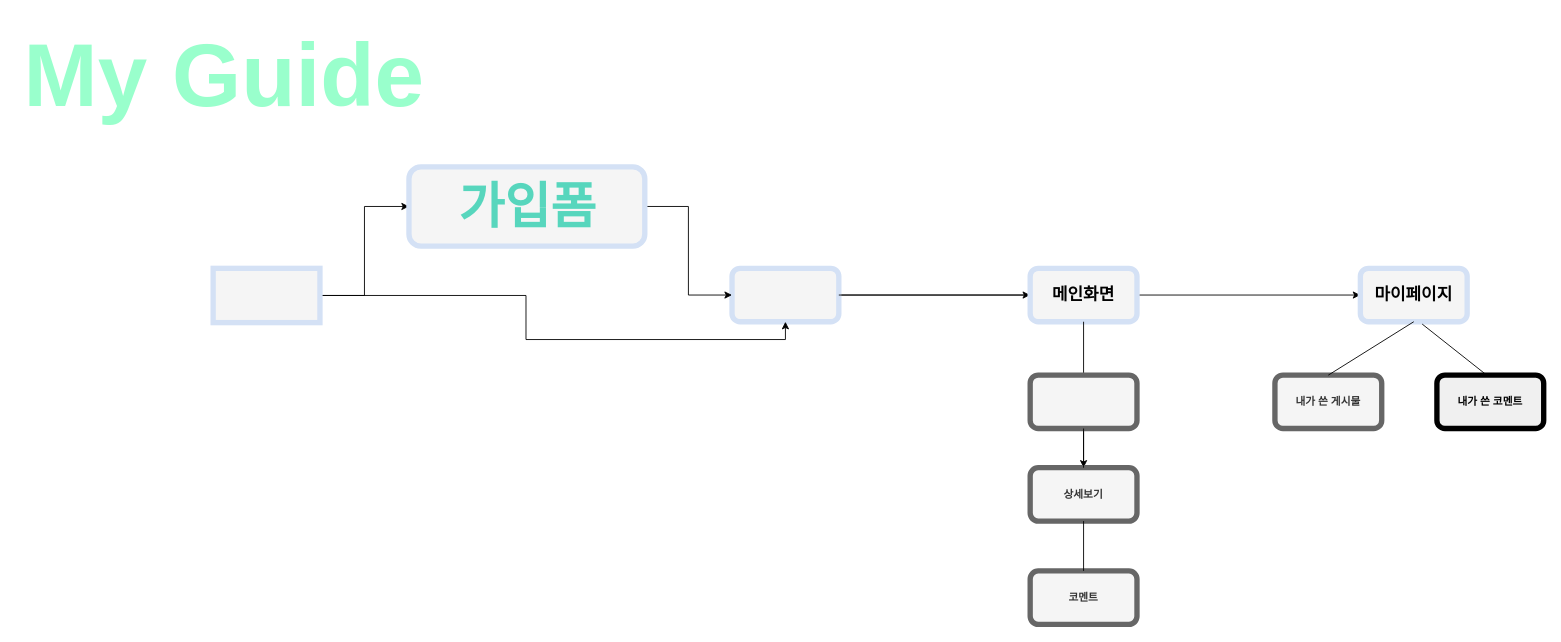
Image size: 1561x642. Some labels were removed from this diagram. Here are the shapes that lost their labels. From the top down, the centre of each, then its label:
At [266,295]: "시작화면".
At [785,294]: "로그인".
At [1083,401]: "마커(포스팅)".
